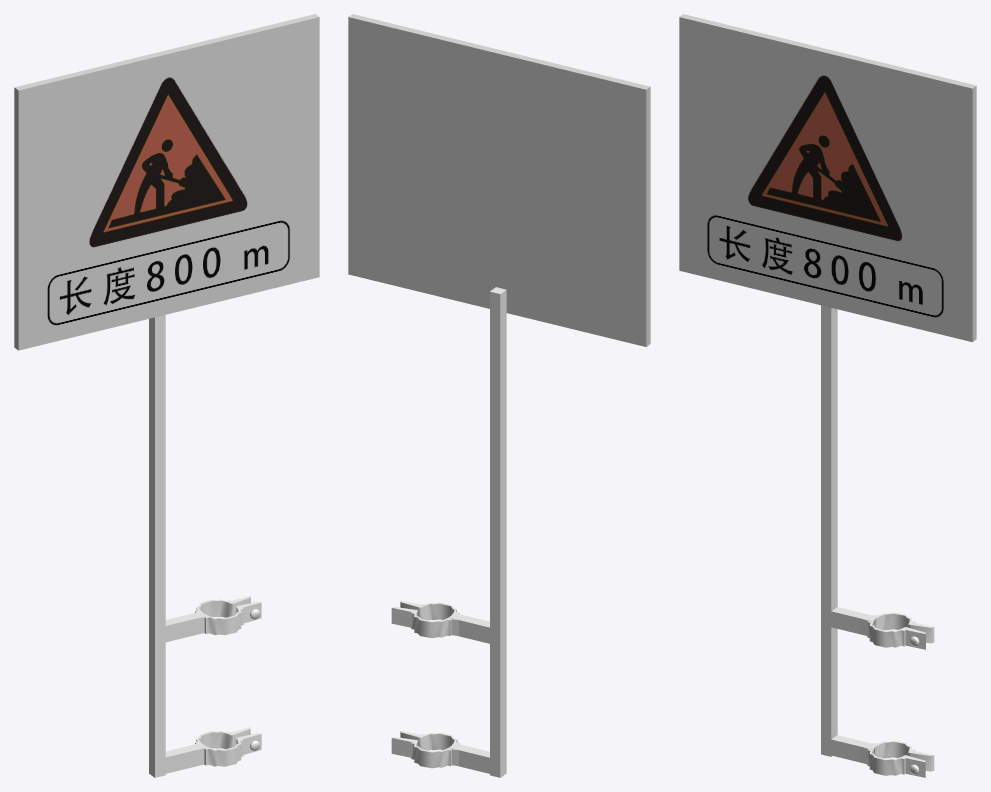
3 renders of one model, left to right at view 1: azimuth 30°, elevation 25°; view 2: azimuth 150°, elevation 25°; view 3: azimuth 330°, elevation 25°, orthographic. The views are drawn at different scales.
Visible parts, largest first — view 1: 立方体.1-材质.4, 立方体, 立方体.1-材质.2, pCube31, pCube20, 立方体.1, 立方体.2; view 2: 立方体.1-材质.2, 立方体, pCube20, pCube31, 立方体.2, 立方体.1; view 3: 立方体.1-材质.4, 立方体, 立方体.1-材质.2, pCube31, pCube20, 立方体.2, 立方体.1.
Boxes of the visible parts, <box> form: 立方体.1-材质.4: <box>18,17,319,350</box>; 立方体: <box>149,315,165,777</box>; 立方体.1-材质.2: <box>14,14,318,350</box>; pCube31: <box>194,595,261,635</box>; pCube20: <box>194,727,261,766</box>; 立方体.1: <box>165,611,206,642</box>; 立方体.2: <box>165,743,206,773</box>; 立方体.1-材质.2: <box>348,14,650,346</box>; 立方体: <box>490,287,506,777</box>; pCube20: <box>391,730,459,768</box>; pCube31: <box>391,600,459,638</box>; 立方体.2: <box>449,743,491,774</box>; 立方体.1: <box>449,613,491,644</box>; 立方体.1-材质.4: <box>679,17,972,342</box>; 立方体: <box>821,305,837,756</box>; 立方体.1-材质.2: <box>679,14,976,341</box>; pCube31: <box>860,612,934,649</box>; pCube20: <box>860,740,934,777</box>; 立方体.2: <box>831,735,877,762</box>; 立方体.1: <box>831,607,877,634</box>.
Bounding box in the file's own units: 7.01 × 16.13 × 0.9508.
Materials: 4 (1 with a texture image).
